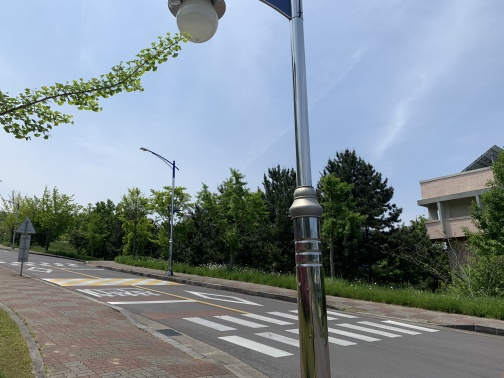College Of Education: (409, 145, 502, 295)
